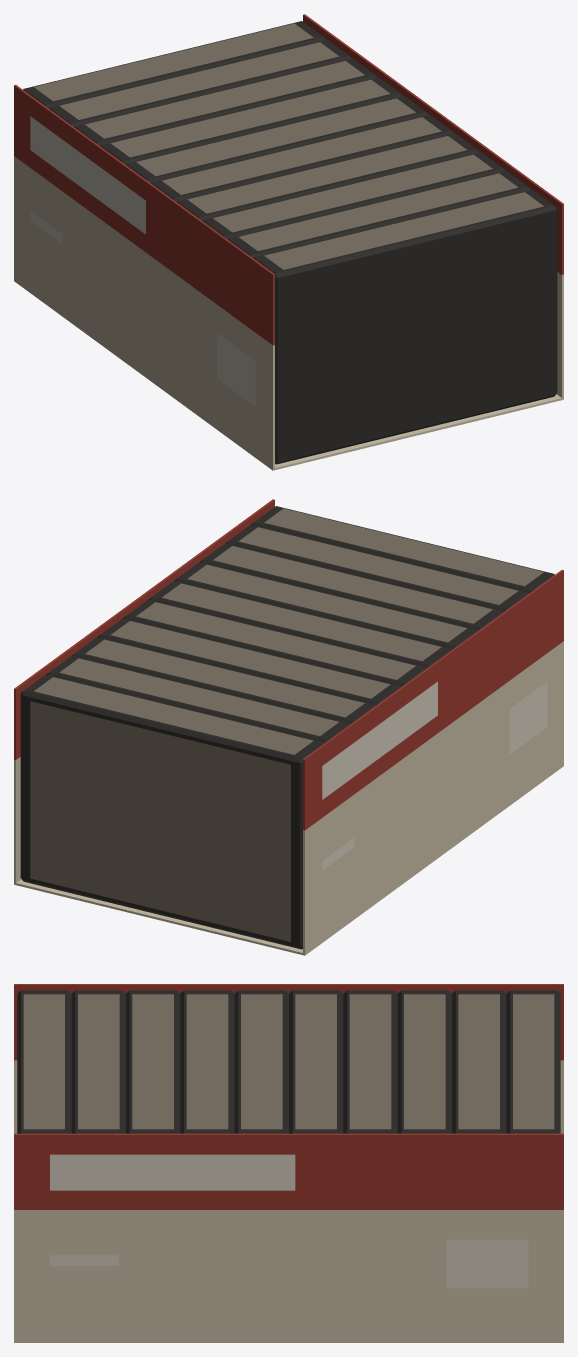
Rendered from blank-tape-pack-97edf04b8b1f.glb.
3 renders of one model, top to bottom at view 1: azimuth 30°, elevation 25°; view 2: azimuth 150°, elevation 25°; view 3: azimuth 270°, elevation 25°, orthographic. The views are drawn at different scales.
Parts seen in each view (by area): view 1: plastic-dark, cover-print, paper, accent-warm, decal-ink; view 2: cover-print, paper, plastic-dark, accent-warm, decal-ink; view 3: paper, cover-print, accent-warm, plastic-dark, decal-ink.
Boxes of the visible parts, x1,y1,x2,y2 form: plastic-dark: [23, 21, 557, 464]; cover-print: [34, 23, 543, 269]; paper: [14, 156, 563, 470]; accent-warm: [14, 14, 563, 345]; decal-ink: [30, 116, 255, 406]; cover-print: [30, 508, 543, 941]; paper: [14, 641, 563, 955]; plastic-dark: [20, 506, 554, 949]; accent-warm: [14, 499, 563, 830]; decal-ink: [322, 681, 547, 869]; paper: [14, 1060, 563, 1342]; cover-print: [23, 994, 554, 1129]; accent-warm: [14, 984, 563, 1209]; plastic-dark: [17, 990, 560, 1133]; decal-ink: [50, 1154, 528, 1288].
Size of the model in its own units: 0.112 by 0.0718 by 0.172.
